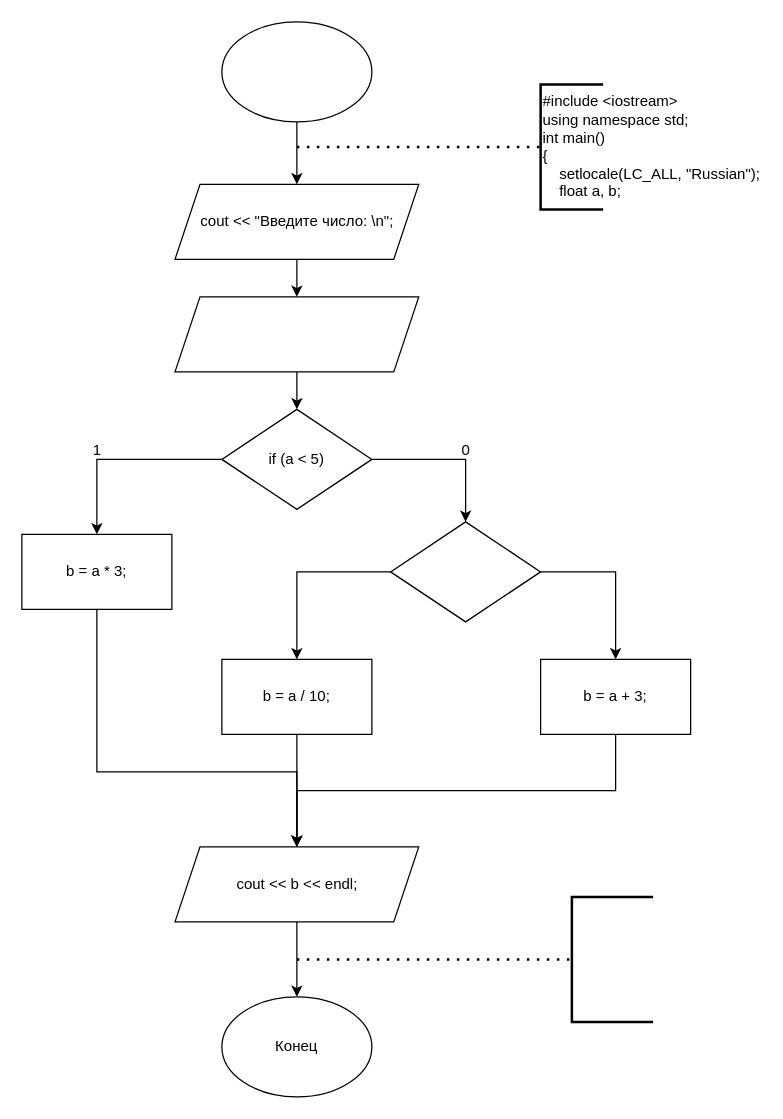
The diagram is 783 pixels wide and 1119 high, and some of its shapes have lost their labels. The centre of each missing label's shape, as x and y in pixels:
"cin >> a;" goes at [296,334].
"if (a > 5 and a < 7)" goes at [465,571].
"return 0; }" goes at [612,958].
"Начало" goes at [296,71].
